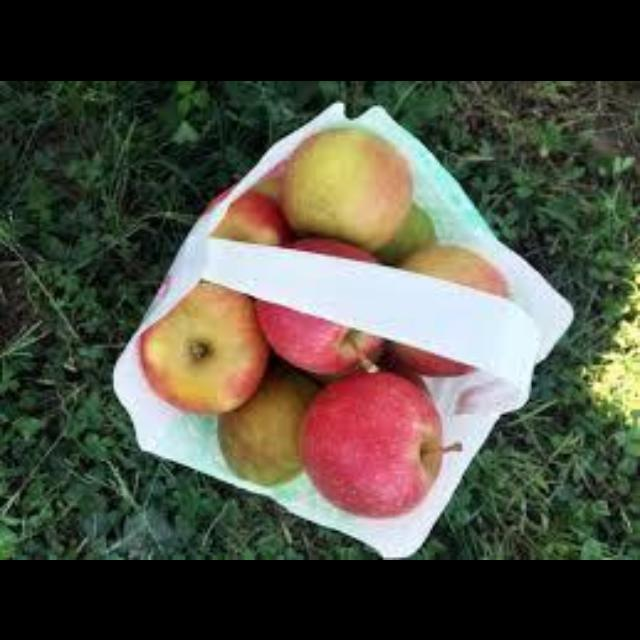apple: (301, 372, 460, 515), (138, 280, 267, 411), (279, 127, 410, 248), (257, 300, 381, 374), (398, 243, 507, 295), (210, 189, 289, 243), (390, 342, 472, 374), (289, 238, 376, 260)
